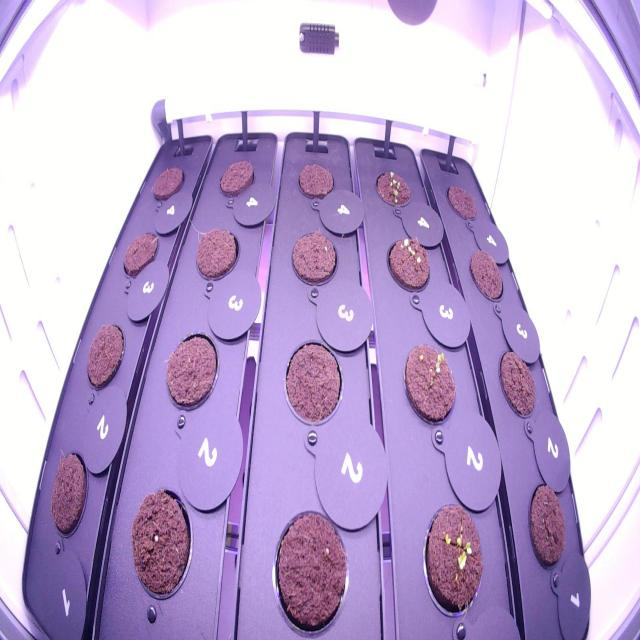germination: (418, 495, 488, 626), (398, 337, 459, 430), (380, 225, 436, 297), (371, 162, 414, 217)
pod: (266, 498, 354, 638), (127, 475, 196, 614), (279, 332, 349, 432), (160, 324, 223, 423), (524, 474, 570, 584), (44, 441, 91, 546), (190, 217, 244, 295), (286, 222, 342, 296), (494, 339, 543, 423), (79, 313, 129, 395), (464, 241, 508, 308), (214, 147, 261, 205), (117, 225, 163, 282), (292, 154, 339, 207), (440, 175, 480, 231), (147, 157, 188, 210)
